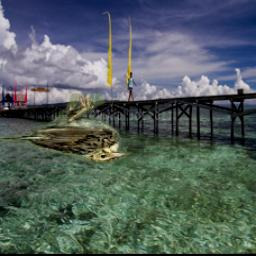Sparrow: (0, 95, 132, 166)
